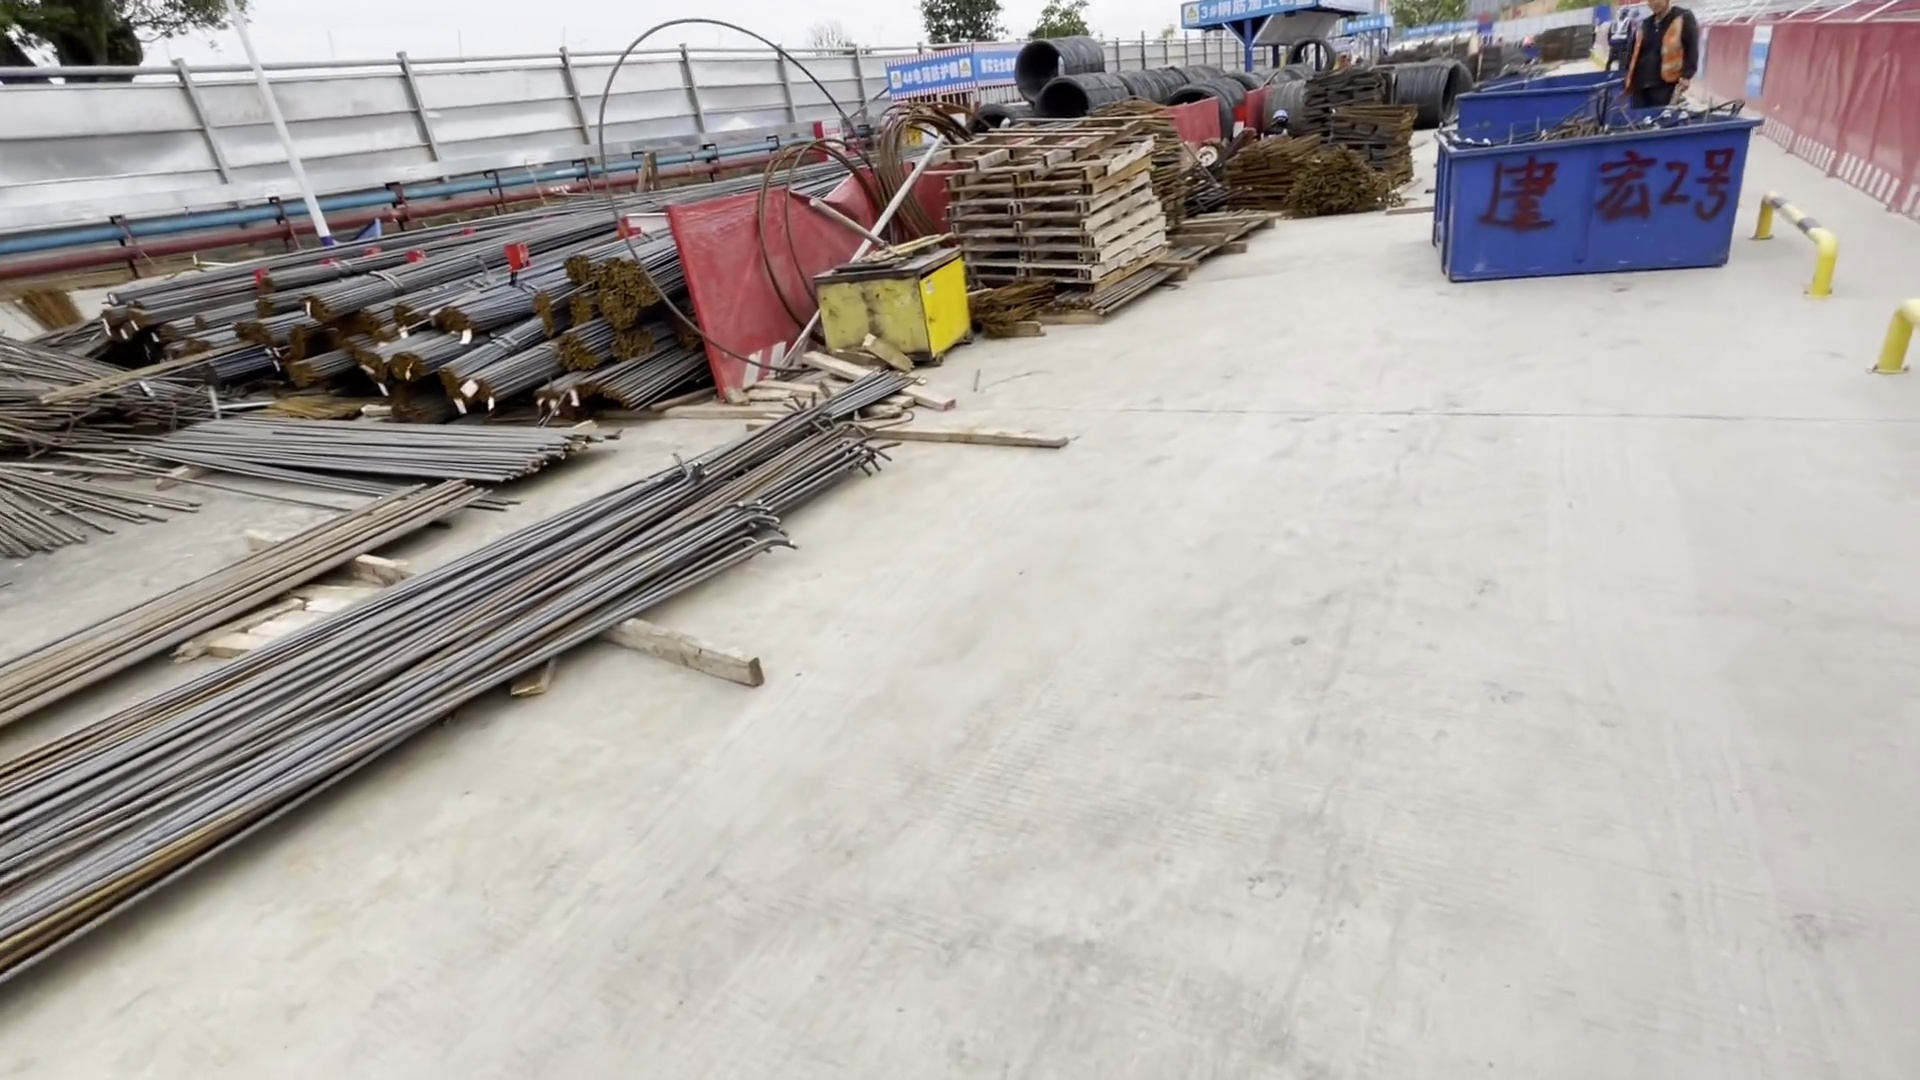fence: (1715, 28, 1920, 200)
hopper: (1438, 90, 1759, 288)
person: (1626, 1, 1701, 102), (1605, 8, 1631, 79)
rebar: (1, 360, 889, 953), (88, 185, 698, 424), (1, 338, 474, 576)
vest: (1630, 17, 1690, 87), (1608, 19, 1629, 48)
